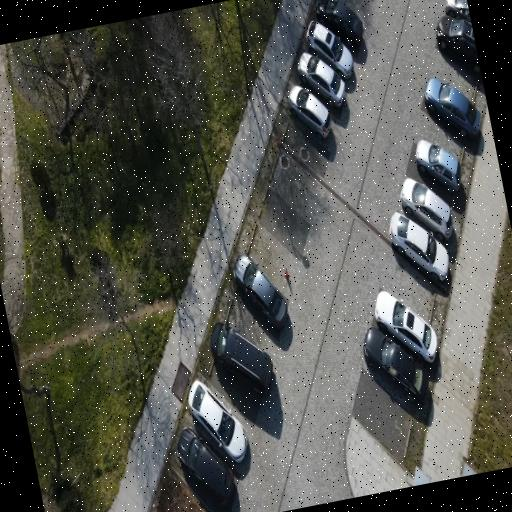harvester: (188, 381, 247, 463), (363, 328, 428, 401), (374, 291, 436, 362), (210, 322, 272, 392), (177, 428, 233, 504), (389, 212, 448, 281), (233, 254, 286, 328), (424, 78, 480, 137), (400, 178, 452, 240), (306, 21, 353, 79), (297, 53, 344, 107), (436, 16, 480, 73), (415, 140, 460, 193), (288, 86, 330, 140), (316, 0, 362, 46), (444, 0, 470, 22)
